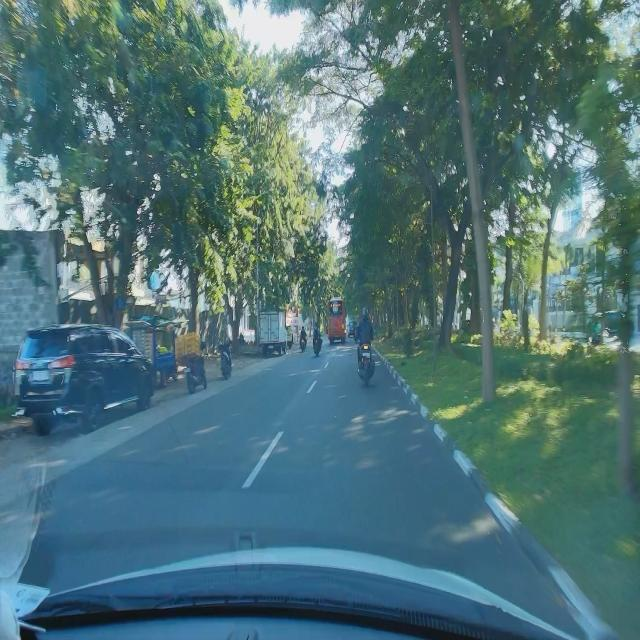bus: (326, 295, 346, 346)
car: (10, 322, 155, 433)
truck: (258, 309, 288, 359)
